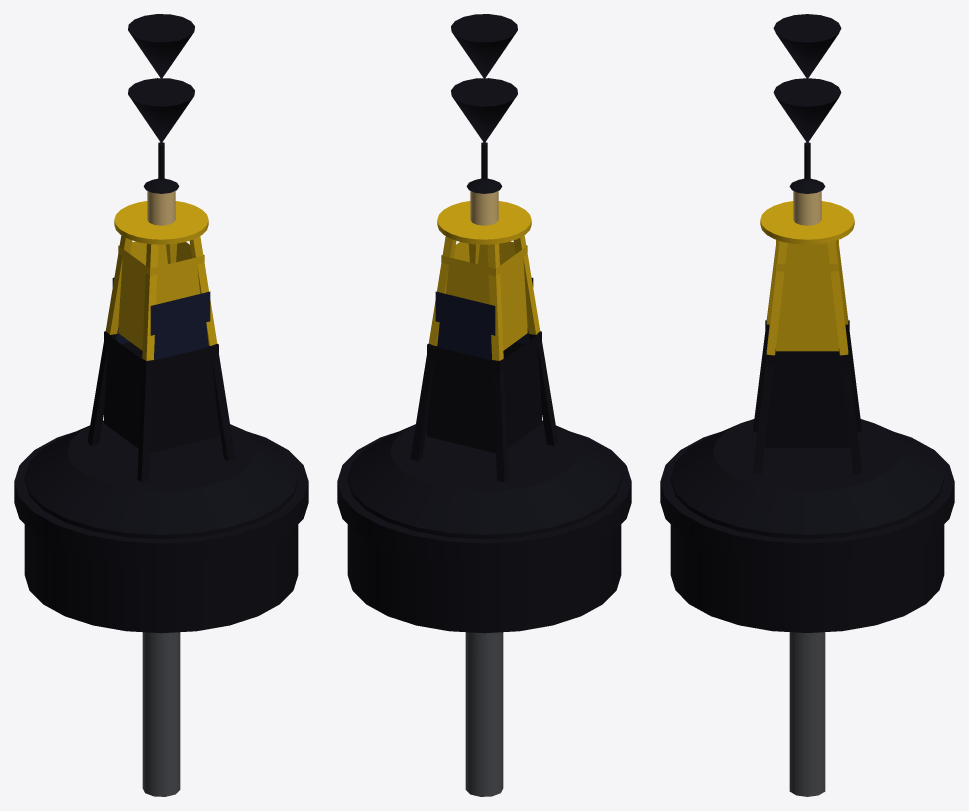
File: buoy_cardinal_south.glb
The picture shows the model from 3 angles, left to right: view 1: azimuth 30°, elevation 25°; view 2: azimuth 150°, elevation 25°; view 3: azimuth 270°, elevation 25°; orthographic projection.
Parts seen in each view (by area): view 1: buoy_cardinal_south; view 2: buoy_cardinal_south; view 3: buoy_cardinal_south.
Boxes of the visible parts, box(x1,y1,x2,y2) form: buoy_cardinal_south: box(14, 14, 308, 796); buoy_cardinal_south: box(337, 14, 631, 796); buoy_cardinal_south: box(660, 14, 954, 796).
Size of the model in its own units: 3.12 by 8.9 by 3.12.
